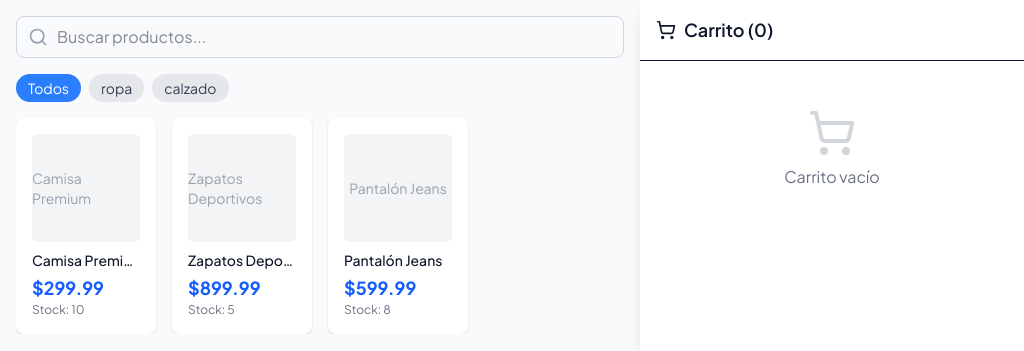
Test: Complete Sales Workflow Integration › Error Handling › should handle product not found
This screenshot has width=1024, height=351.
Note: Search for non-existent product
Step 1. Type "Producto Inexistente" into the field with placeholder "Buscar productos..." → (320, 37), box [16,16,624,58]
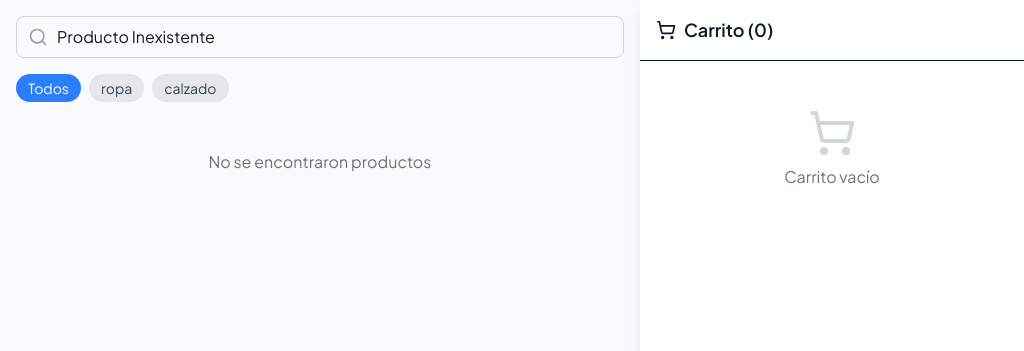
Check: the text "No se encontraron productos" is shown, box [208,151,432,172]
